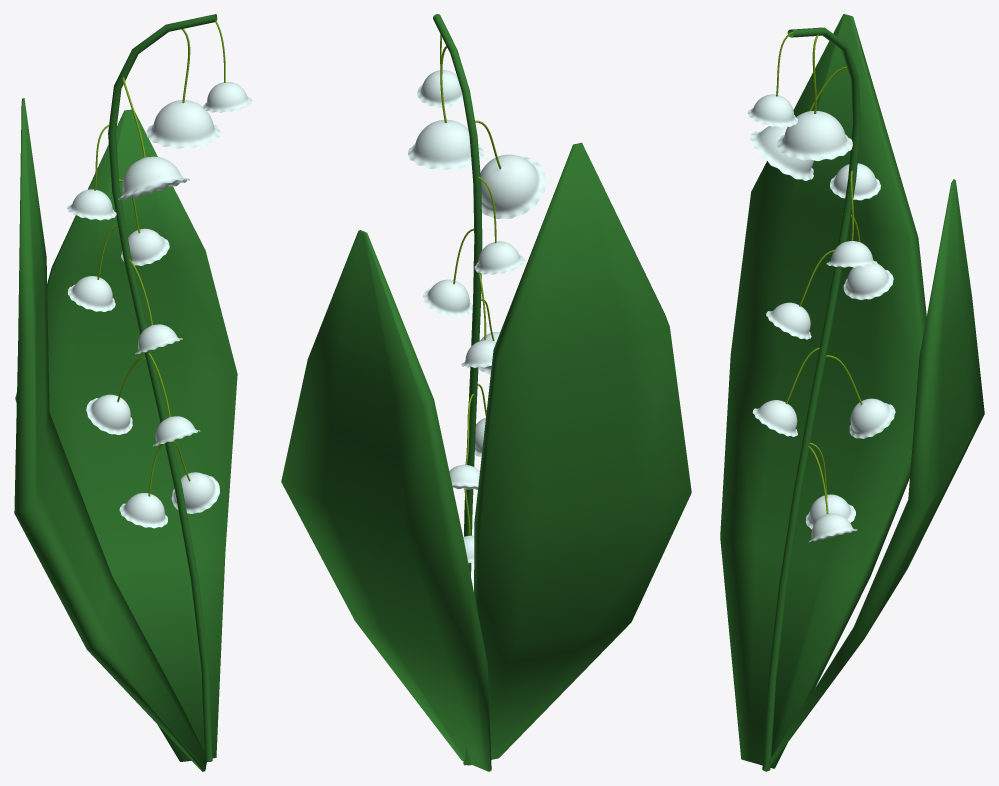
File: lily.fbx
3 renders of one model, left to right at view 1: azimuth 30°, elevation 25°; view 2: azimuth 150°, elevation 25°; view 3: azimuth 270°, elevation 25°, orthographic. The views are drawn at different scales.
Visible parts, largest first — view 1: Plane.004, stem, Sphere, Sphere.004, Sphere.009, Sphere.011, Sphere.006, Sphere.010, Sphere.005, Sphere.001, Sphere.003, Sphere.008 (+1 smaller); view 2: Plane.004, stem, Sphere.004, Sphere, Sphere.005, Sphere.003, Sphere.001, Sphere.006; view 3: Plane.004, stem, Sphere, Sphere.004, Sphere.009, Sphere.006, Sphere.003, Sphere.001, Sphere.008, Sphere.007, Sphere.005, Sphere.010 (+1 smaller).
Boxes of the visible parts, x1,y1,x2,y2 form: Plane.004: (14,98,237,771); stem: (108,14,217,761); Sphere: (146,100,220,148); Sphere.004: (118,156,189,200); Sphere.009: (86,394,132,434); Sphere.011: (171,472,219,513); Sphere.006: (68,276,115,311); Sphere.010: (119,493,167,528); Sphere.005: (121,228,169,265); Sphere.001: (67,189,116,220); Sphere.003: (203,82,252,112); Sphere.008: (153,416,200,446); Plane.004: (281,142,691,771); stem: (433,14,482,765); Sphere.004: (473,154,546,218); Sphere: (408,119,484,170); Sphere.005: (423,279,472,317); Sphere.003: (417,70,463,107); Sphere.001: (474,241,524,274); Sphere.006: (461,340,496,367); Plane.004: (720,14,984,771); stem: (762,27,860,771); Sphere: (777,111,852,160); Sphere.004: (750,126,813,180); Sphere.009: (849,398,895,438); Sphere.006: (843,263,893,299); Sphere.003: (747,94,797,127); Sphere.001: (830,163,880,200); Sphere.008: (752,400,797,436); Sphere.007: (766,302,811,339); Sphere.005: (826,241,877,267); Sphere.010: (805,494,855,529).
Size of the model in its own units: 1006 by 2273 by 727.
